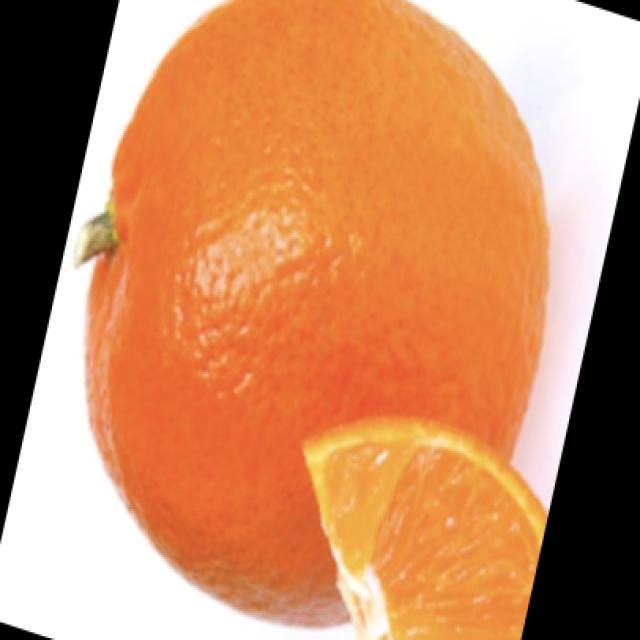Orange: (76, 0, 551, 629), (301, 414, 549, 639)
